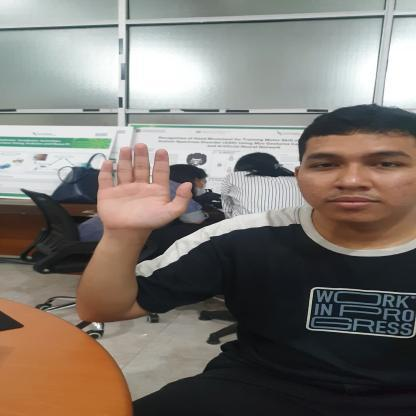Halo: (84, 142, 194, 230)
